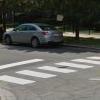Crosswalk: (5, 51, 100, 100)
